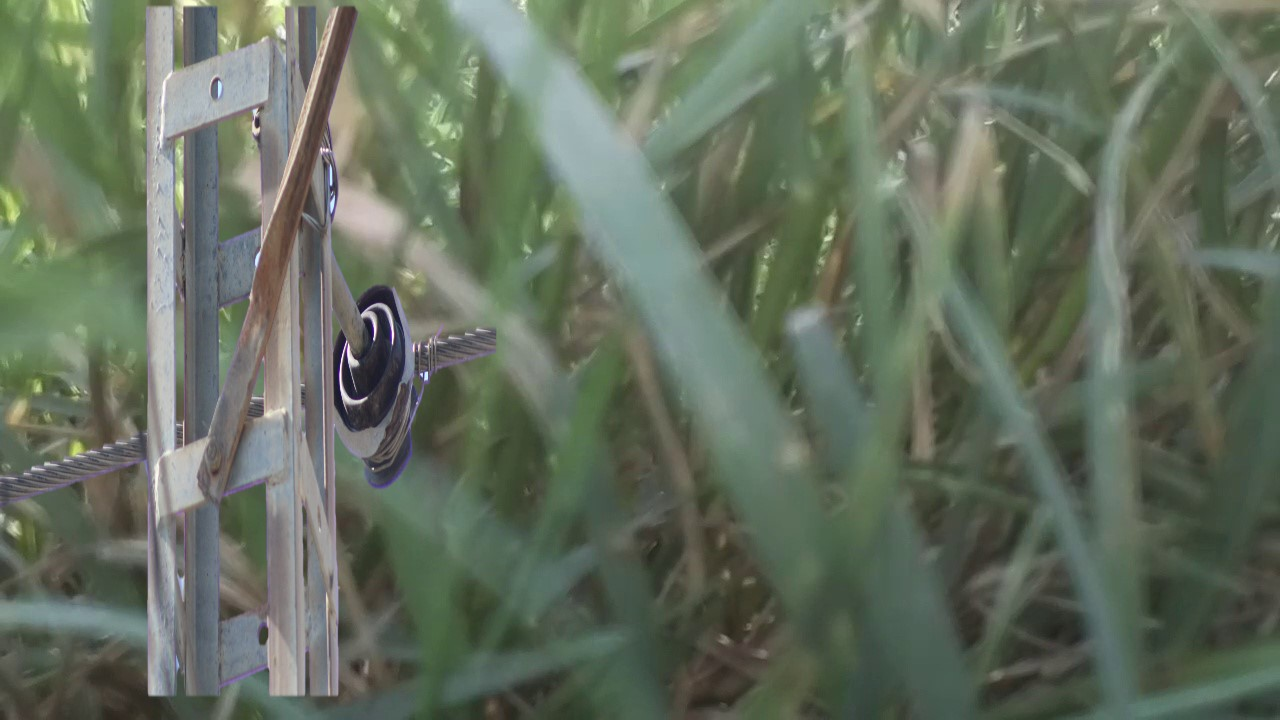defect_pin: (330, 278, 428, 498)
